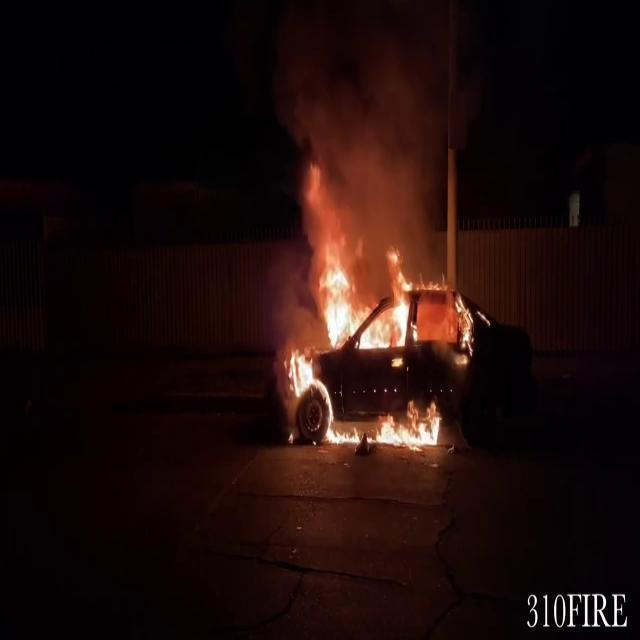Fire: (318, 235, 469, 361), (322, 398, 445, 454), (281, 342, 328, 411)
Smoke: (260, 4, 472, 238)
